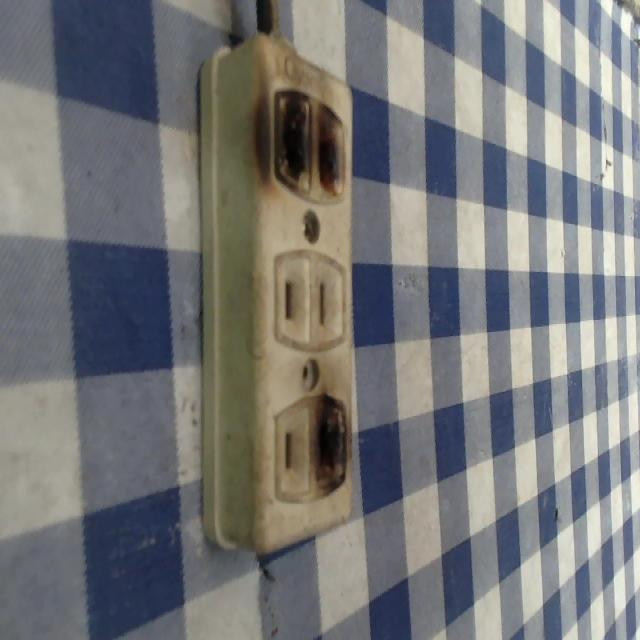-: (247, 80, 352, 211), (309, 392, 353, 493)
